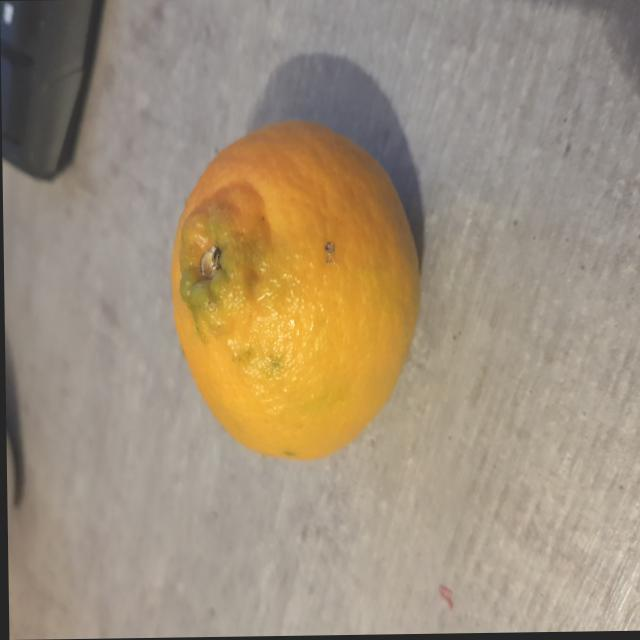Orange: (171, 120, 422, 463)
